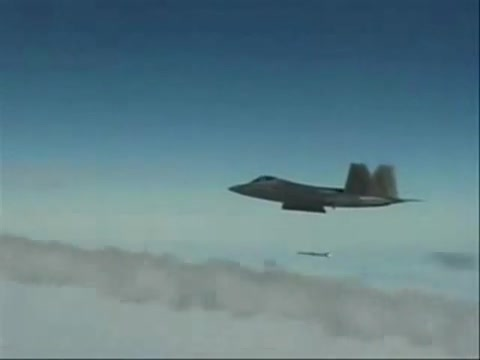aeroplane: (228, 163, 427, 215)
